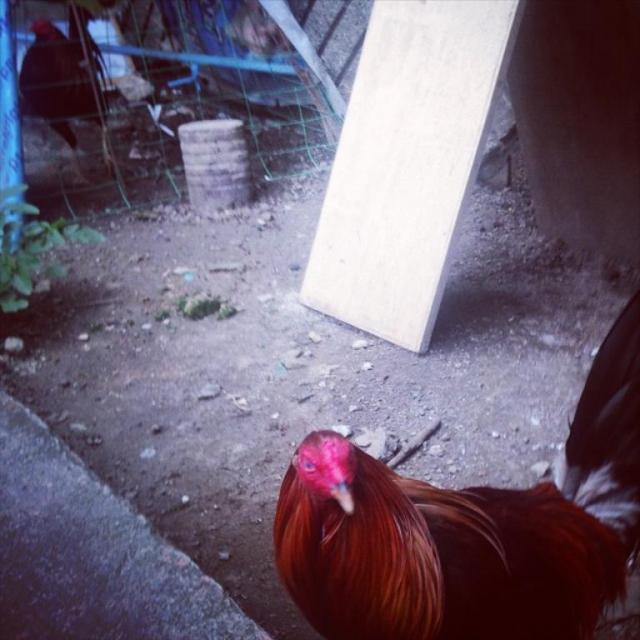Chicken: (268, 292, 639, 639)
